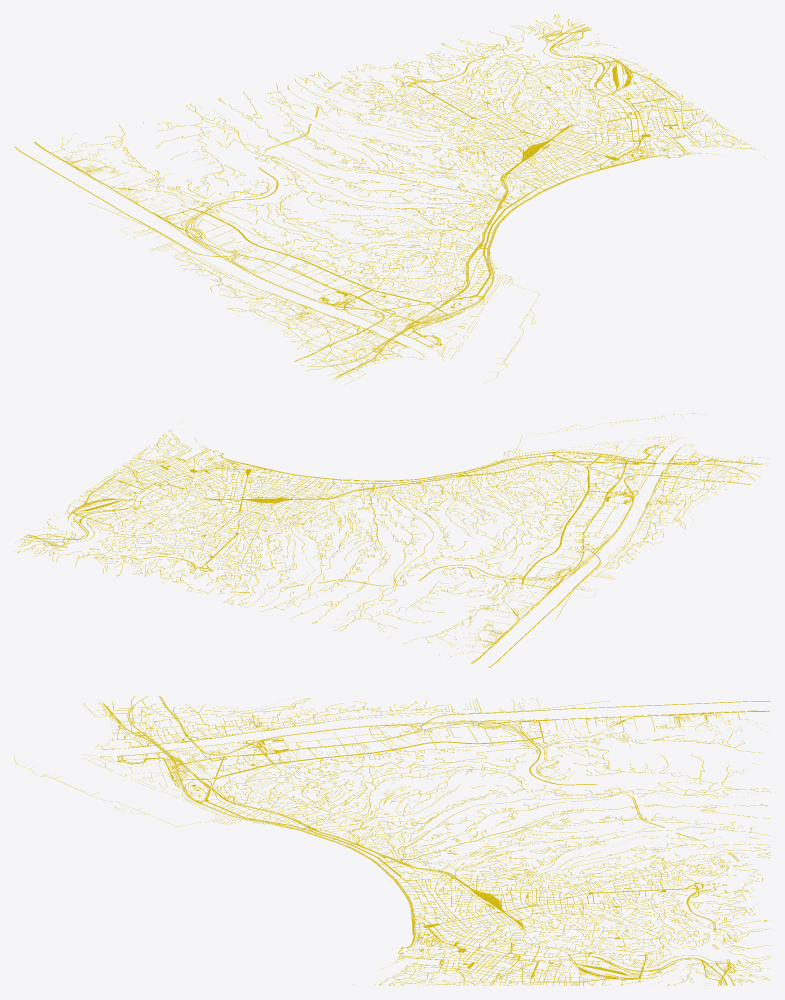
Rendered from roads.glb.
3 renders of one model, top to bottom at view 1: azimuth 30°, elevation 25°; view 2: azimuth 150°, elevation 25°; view 3: azimuth 270°, elevation 25°, orthographic. The views are drawn at different scales.
Visible parts, largest first — view 1: roads; view 2: roads; view 3: roads.
Boxes of the visible parts, x1,y1,x2,y2 form: roads: (14, 14, 765, 384); roads: (14, 413, 769, 667); roads: (14, 696, 770, 985).
Size of the model in its own units: 9382 by 0.00175 by 10352.
